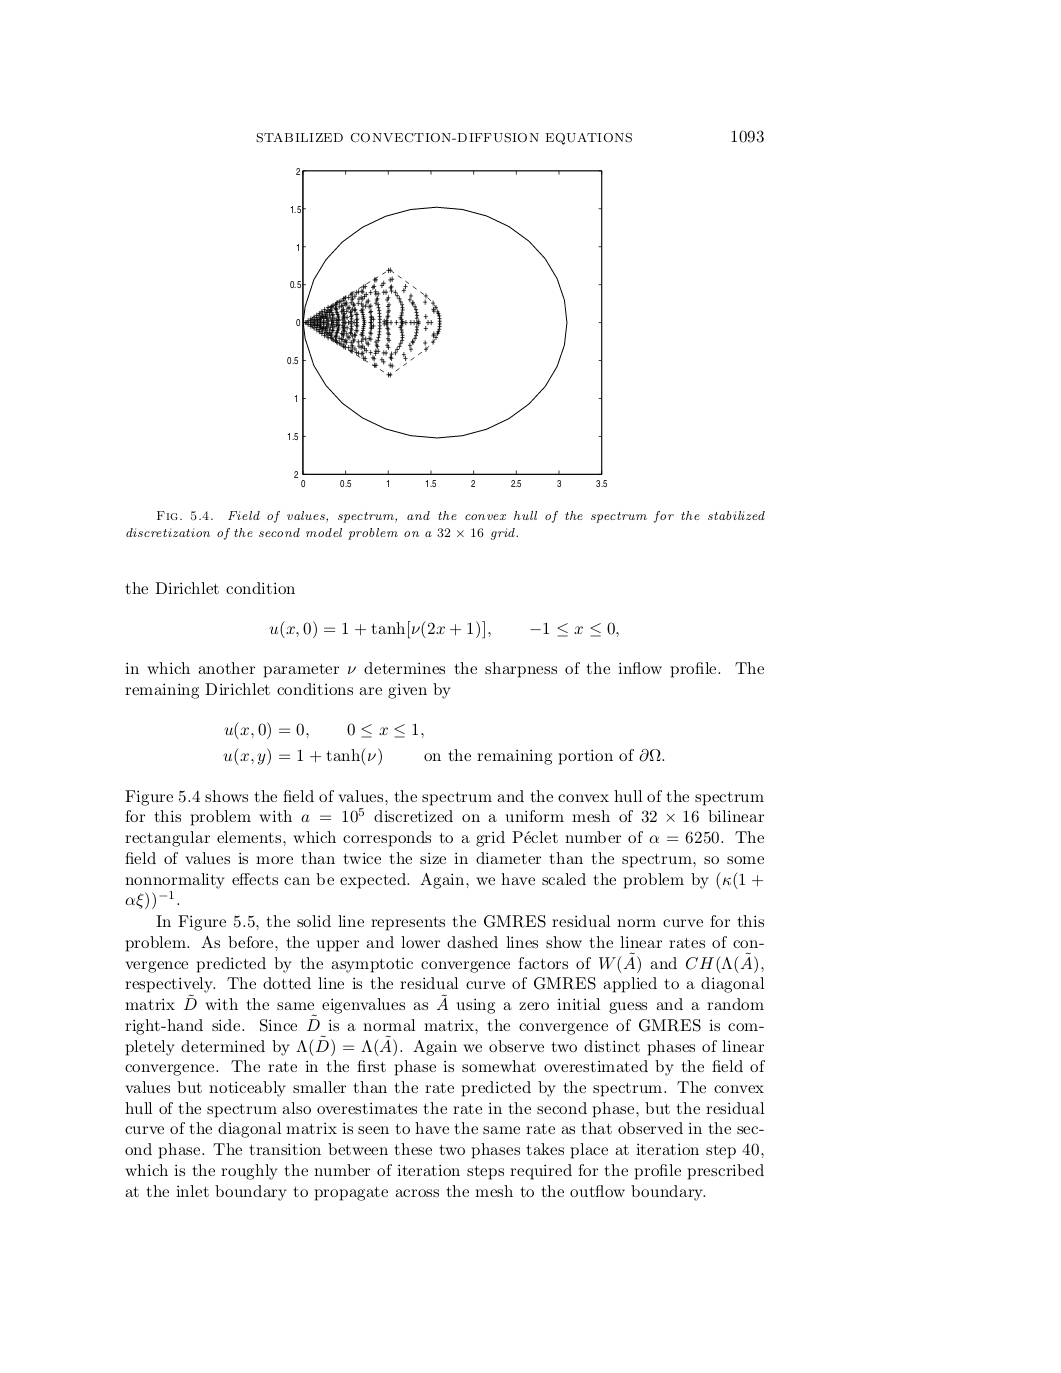figure: (288, 167, 606, 488)
formula: (223, 747, 664, 766), (269, 620, 619, 639), (224, 721, 424, 740)
